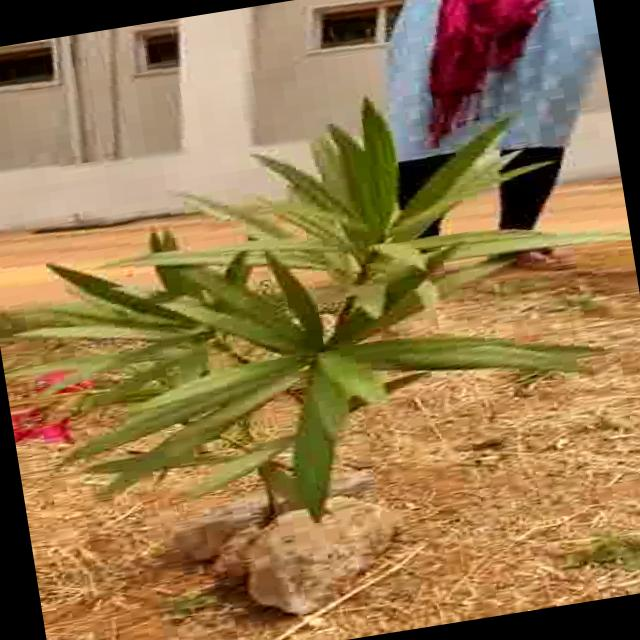Oleander: (16, 84, 637, 554)
